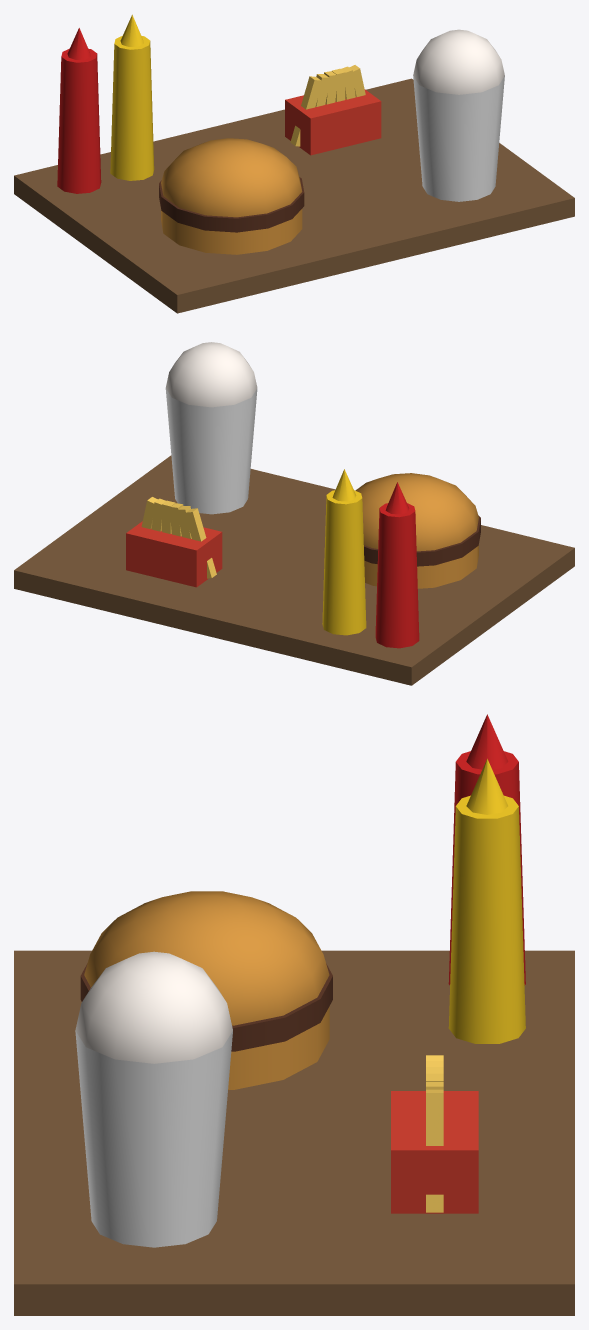
Rendered from lunch_tray.glb.
3 renders of one model, top to bottom at view 1: azimuth 30°, elevation 25°; view 2: azimuth 150°, elevation 25°; view 3: azimuth 270°, elevation 25°, orthographic. The views are drawn at different scales.
Parts seen in each view (by area): view 1: lunch_tray; view 2: lunch_tray; view 3: lunch_tray.
Part boxes in pixels (x1=…): lunch_tray: x1=14, y1=14, x2=574, y2=313; lunch_tray: x1=14, y1=342, x2=574, y2=685; lunch_tray: x1=14, y1=714, x2=574, y2=1315.
Bounding box in the file's own units: 0.45 × 0.19 × 0.32.
